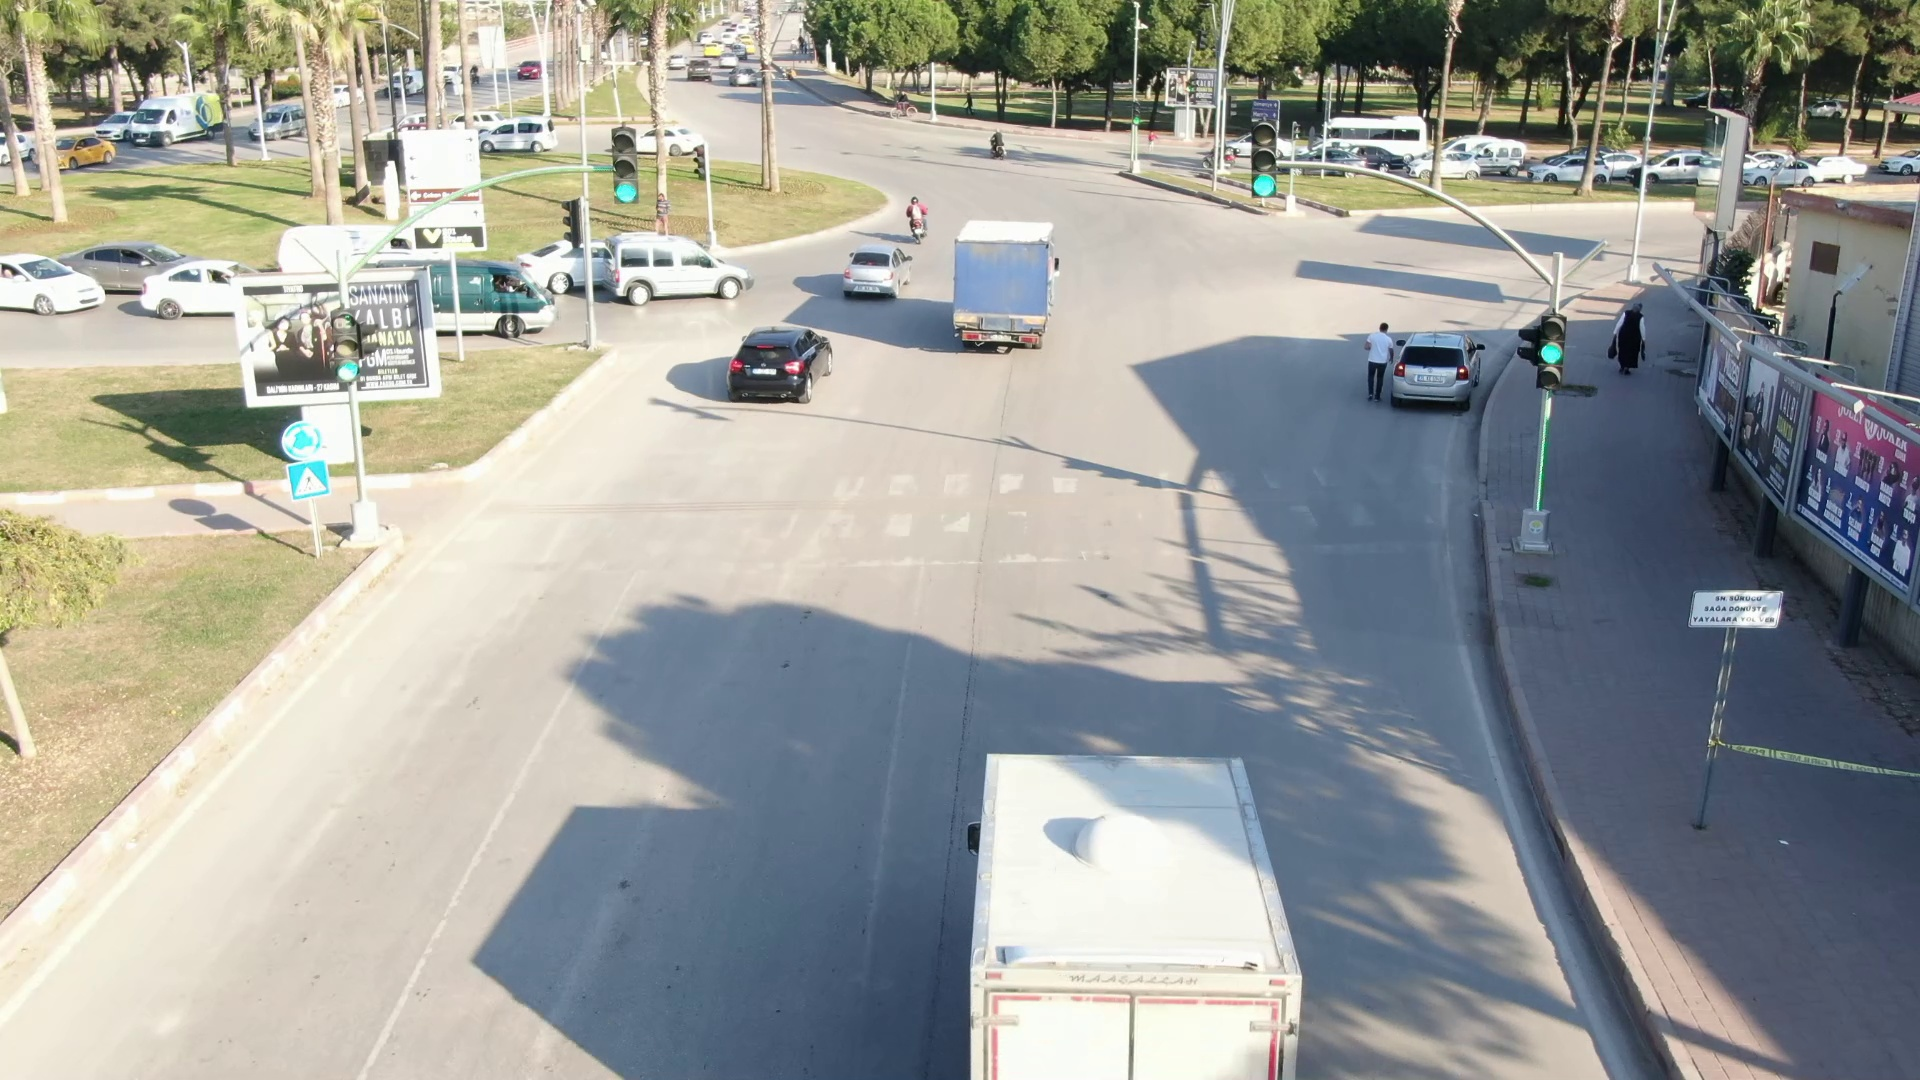car: (599, 227, 769, 312), (726, 318, 855, 411), (1389, 319, 1490, 412), (819, 227, 918, 302), (476, 109, 562, 157), (1522, 148, 1617, 189)
person: (1603, 295, 1657, 379), (1349, 315, 1396, 407)
